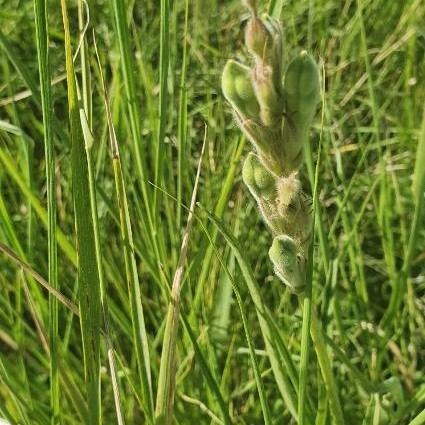obstacle: (205, 10, 388, 346), (38, 48, 213, 396)
